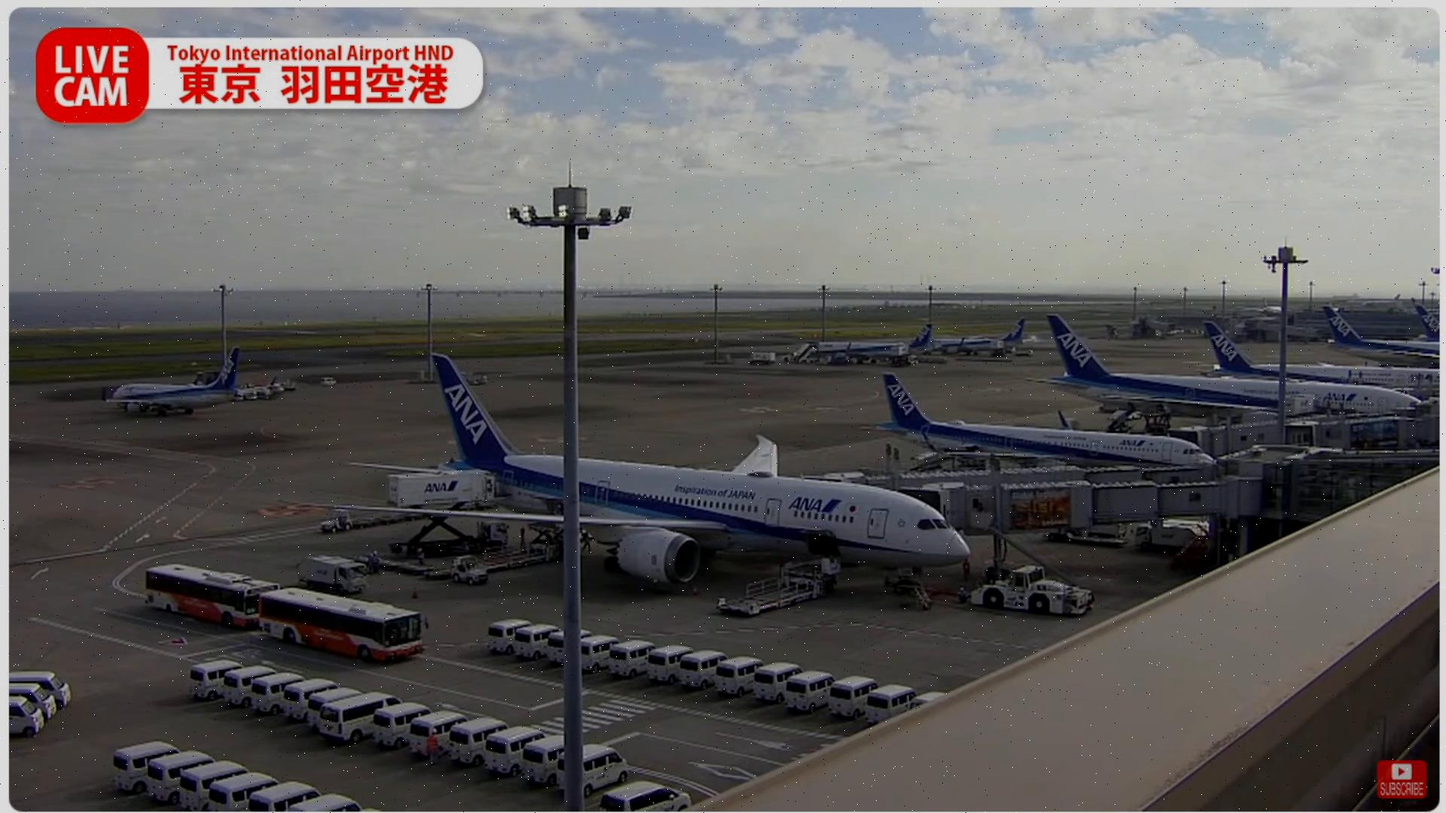APS: (969, 564, 1106, 619)
Aerobridge: (899, 476, 1264, 540), (843, 457, 1217, 496)
Airplane: (330, 354, 973, 599)
Baggage truck: (295, 550, 370, 595)
Catering: (380, 464, 499, 562)
Dolly: (356, 550, 453, 577), (352, 511, 425, 529)
JCPL: (699, 546, 848, 617), (450, 523, 565, 571)
Tractor: (450, 554, 488, 584), (320, 508, 354, 534)
Window: (1290, 456, 1440, 523)
